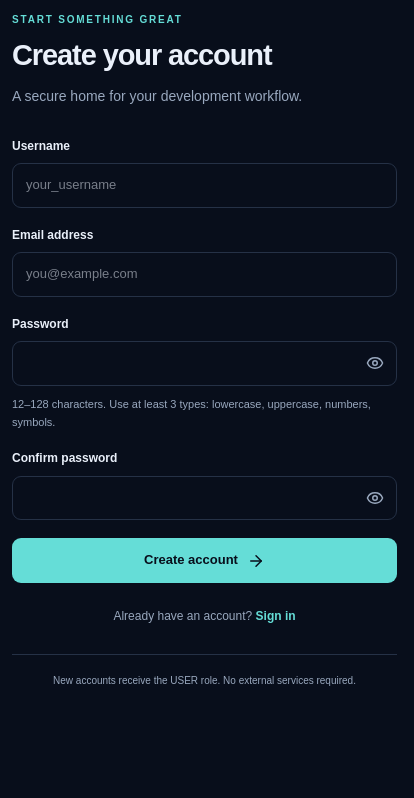
Test: validates empty registration without contacting the backend
Click the button "Create account" at [204, 561], box [12, 538, 397, 583]
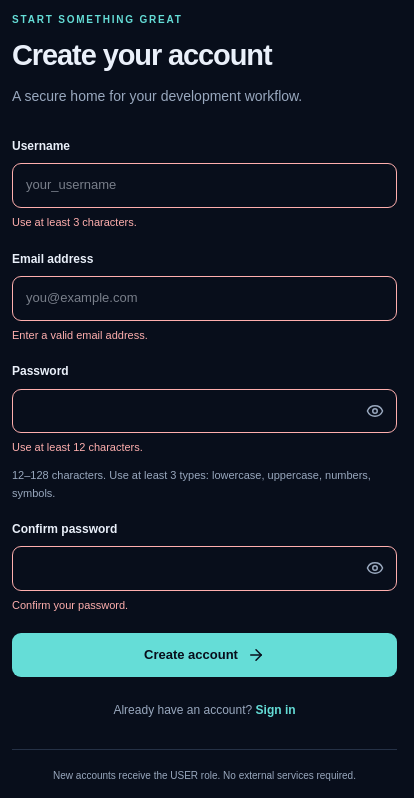
Check: the text "Use at least 3 characters." is shown, box [12, 216, 137, 228]
